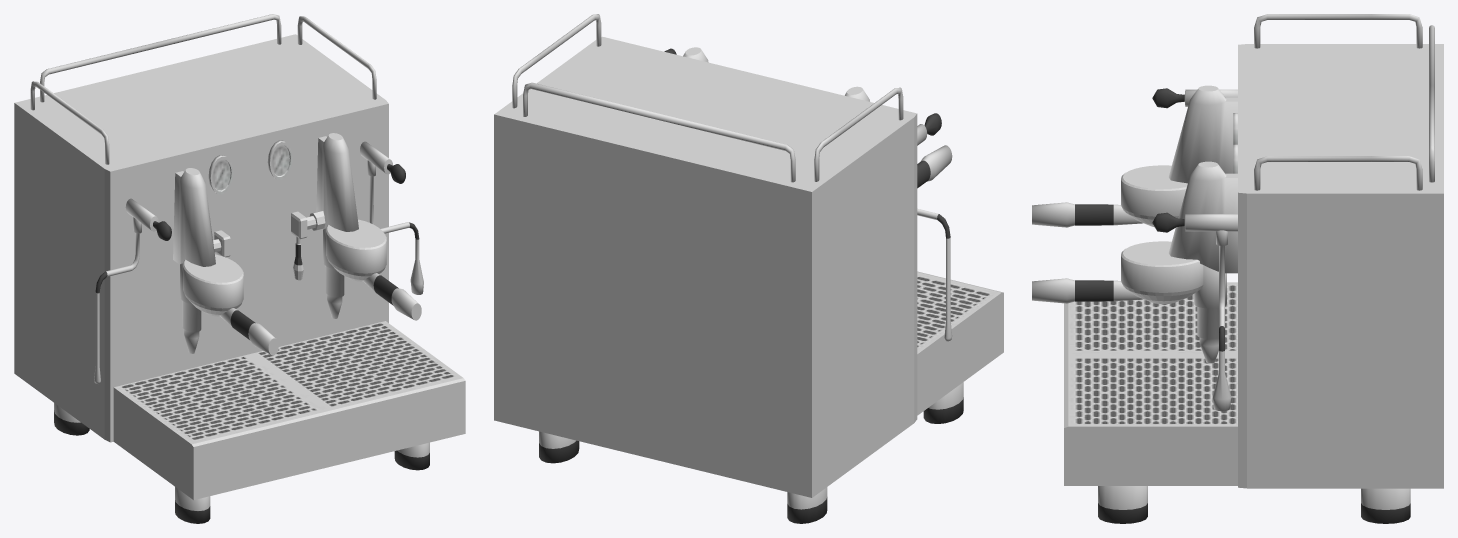
File: sh-scopia-coffee-machine.glb
The picture shows the model from 3 angles, left to right: view 1: azimuth 30°, elevation 25°; view 2: azimuth 150°, elevation 25°; view 3: azimuth 270°, elevation 25°; orthographic projection. The views are drawn at different scales.
Visible parts, largest first — view 1: coffee_machine; view 2: coffee_machine; view 3: coffee_machine.
Boxes of the visible parts, x1,y1,x2,y2 form: coffee_machine: (14,14,465,523); coffee_machine: (494,14,1003,523); coffee_machine: (1032,14,1443,523).
Bounding box in the file's own units: 1 × 1 × 1.
Materials: 2 (1 with a texture image).
